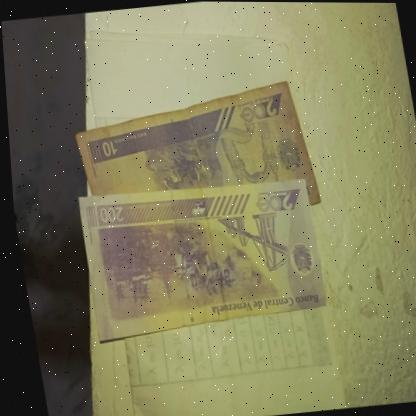two_hundred-back-vef: (71, 172, 326, 344)
